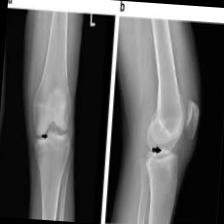avulsion-fracture: (0, 6, 218, 224)
